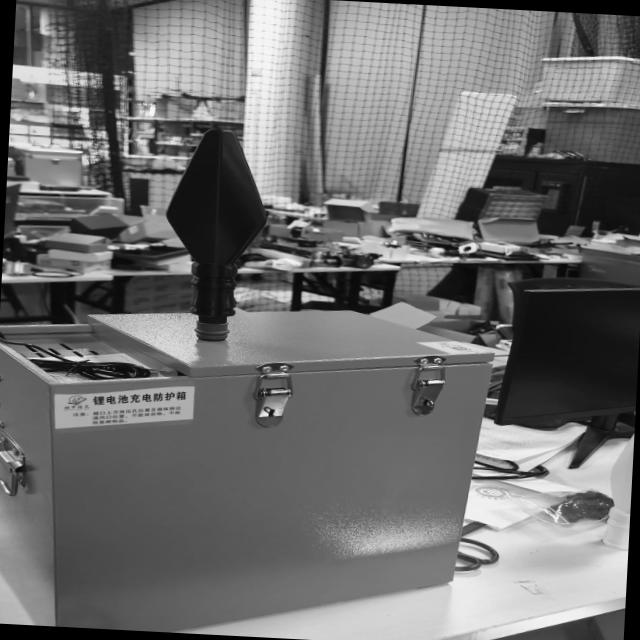base: (196, 321, 230, 342)
